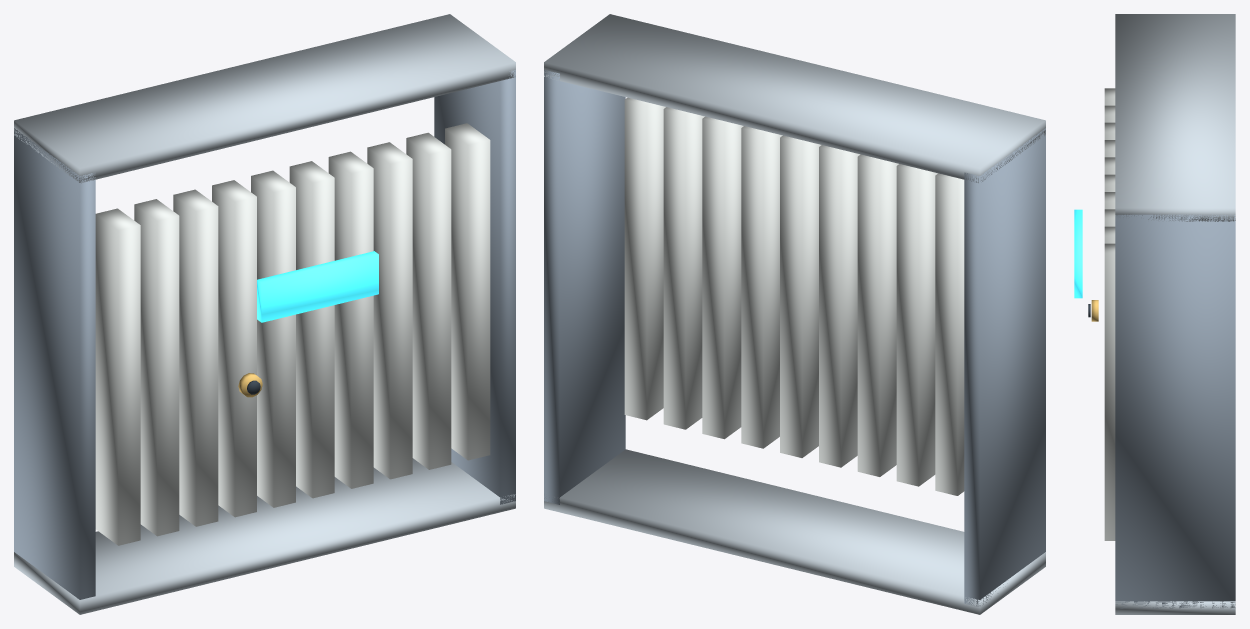
File: 72_L88_TraceContaminantFilterArray.fbx
3 renders of one model, left to right at view 1: azimuth 30°, elevation 25°; view 2: azimuth 150°, elevation 25°; view 3: azimuth 270°, elevation 25°, orthographic. The views are drawn at different scales.
Parts seen in each view (by area): view 1: L87_TraceContaminantFilterArr_Part_0002, L87_TraceContaminantFilterArr_Part_0001, L87_TraceContaminantFilterArr_Part_0000, L87_TraceContaminantFilterArr_Part_0003; view 2: L87_TraceContaminantFilterArr_Part_0002, L87_TraceContaminantFilterArr_Part_0001, L87_TraceContaminantFilterArr_Part_0000; view 3: L87_TraceContaminantFilterArr_Part_0000, L87_TraceContaminantFilterArr_Part_0001, L87_TraceContaminantFilterArr_Part_0002, L87_TraceContaminantFilterArr_Part_0003.
Boxes of the visible parts, x1=… form: L87_TraceContaminantFilterArr_Part_0002: x1=95, y1=123, x2=490, y2=545; L87_TraceContaminantFilterArr_Part_0001: x1=14, y1=14, x2=515, y2=614; L87_TraceContaminantFilterArr_Part_0000: x1=14, y1=69, x2=515, y2=599; L87_TraceContaminantFilterArr_Part_0003: x1=257, y1=251, x2=378, y2=322; L87_TraceContaminantFilterArr_Part_0002: x1=624, y1=97, x2=964, y2=495; L87_TraceContaminantFilterArr_Part_0001: x1=544, y1=14, x2=1045, y2=614; L87_TraceContaminantFilterArr_Part_0000: x1=544, y1=69, x2=1045, y2=606; L87_TraceContaminantFilterArr_Part_0000: x1=1115, y1=214, x2=1235, y2=608; L87_TraceContaminantFilterArr_Part_0001: x1=1115, y1=14, x2=1235, y2=614; L87_TraceContaminantFilterArr_Part_0002: x1=1104, y1=88, x2=1115, y2=540; L87_TraceContaminantFilterArr_Part_0003: x1=1074, y1=209, x2=1082, y2=298.
Bounding box in the file's own units: 2.75 × 2.69 × 0.965.
